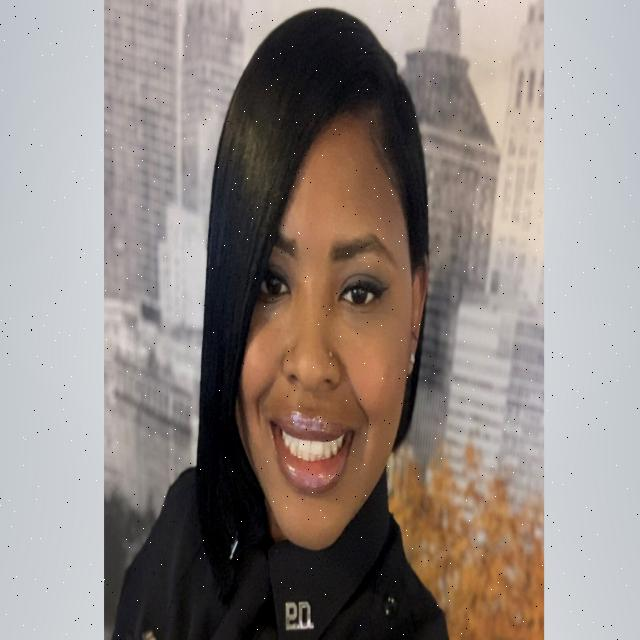police: (113, 5, 451, 640)
